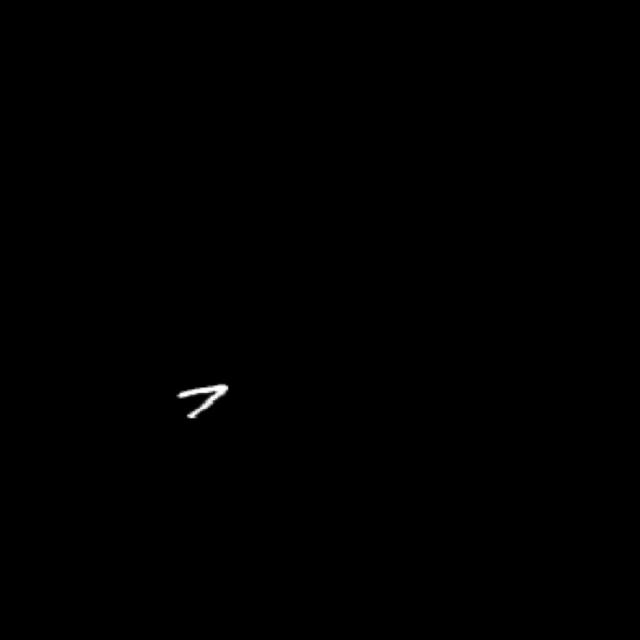seven -7-: (161, 377, 239, 427)
